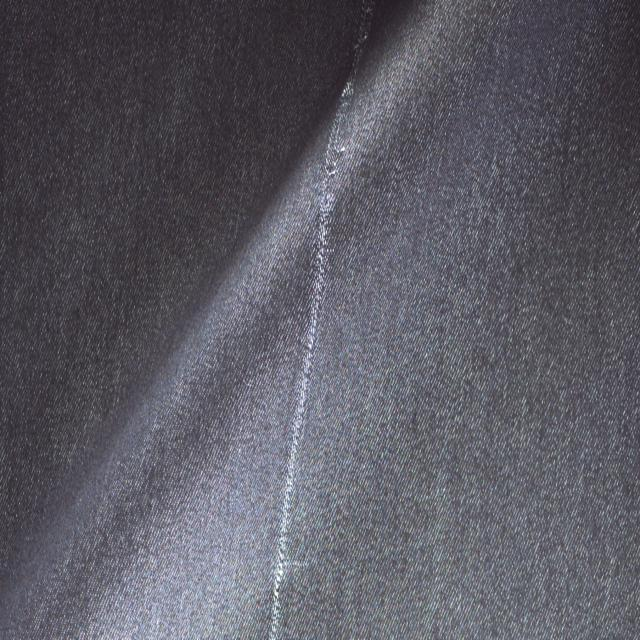broken_yarn: (15, 2, 436, 621)
